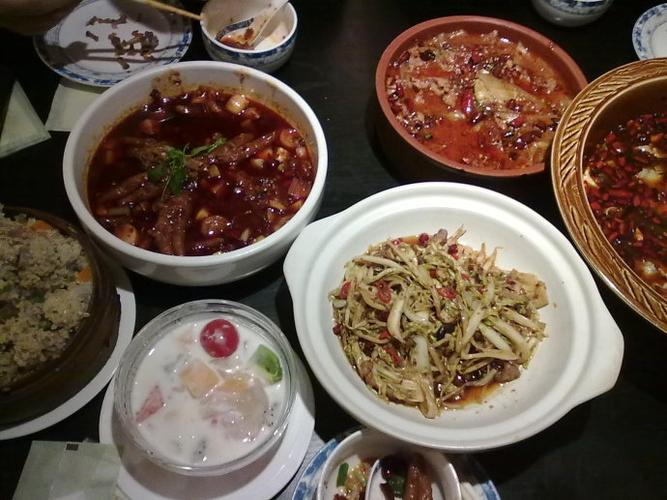food: (297, 180, 594, 444), (64, 49, 332, 275), (370, 1, 590, 180), (107, 293, 302, 487), (557, 58, 667, 329), (0, 199, 109, 399)
